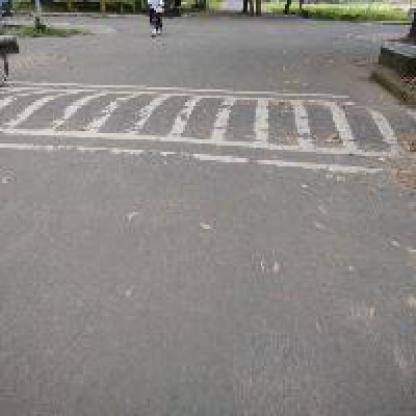Speed Bump: (8, 75, 414, 177)
